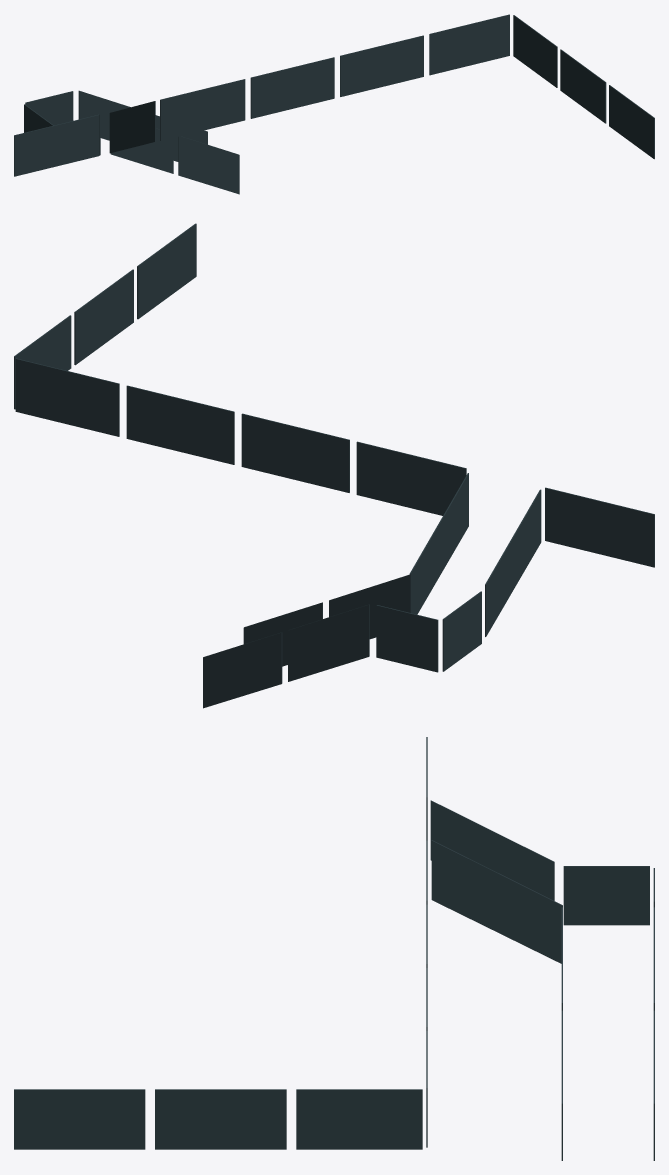
Rendered from Garage_glass.fbx.
3 renders of one model, top to bottom at view 1: azimuth 30°, elevation 25°; view 2: azimuth 150°, elevation 25°; view 3: azimuth 270°, elevation 25°, orthographic. The views are drawn at different scales.
Parts seen in each view (by area): view 1: Garage_glass; view 2: Garage_glass; view 3: Garage_glass.
Part boxes in pixels (x1,y1,x2,y2): Garage_glass: [14, 14, 654, 194]; Garage_glass: [14, 223, 654, 708]; Garage_glass: [14, 737, 654, 1160].
Bounding box in the file's own units: 17.29 × 5.28 × 13.27.
